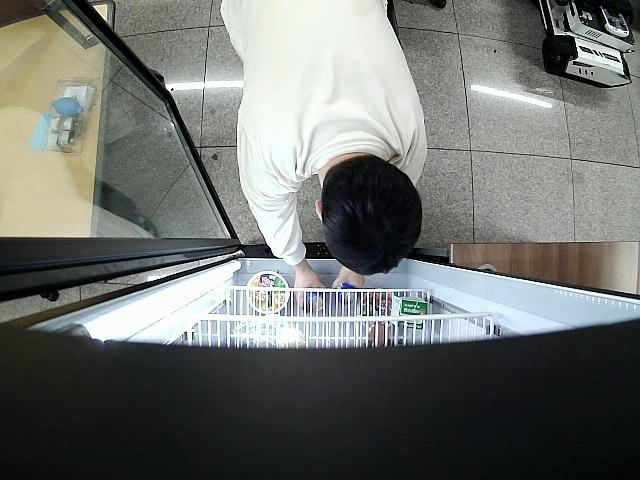00_hand: (293, 268, 325, 309), (334, 267, 366, 296)
